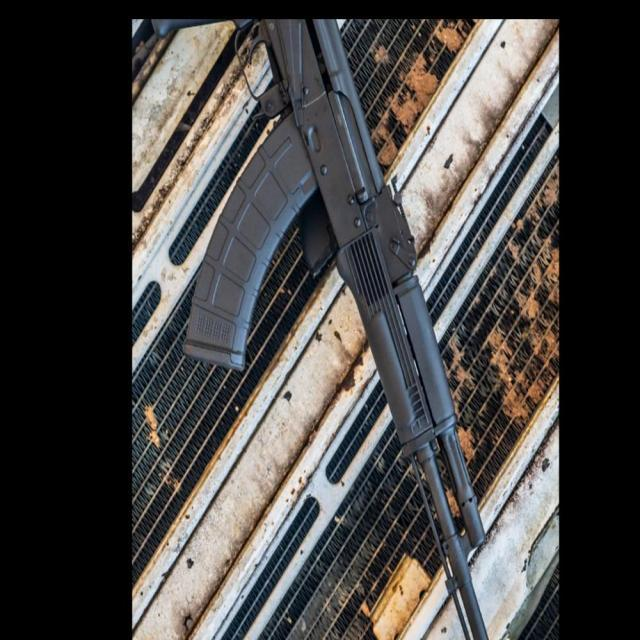weapon: (182, 19, 490, 640)
